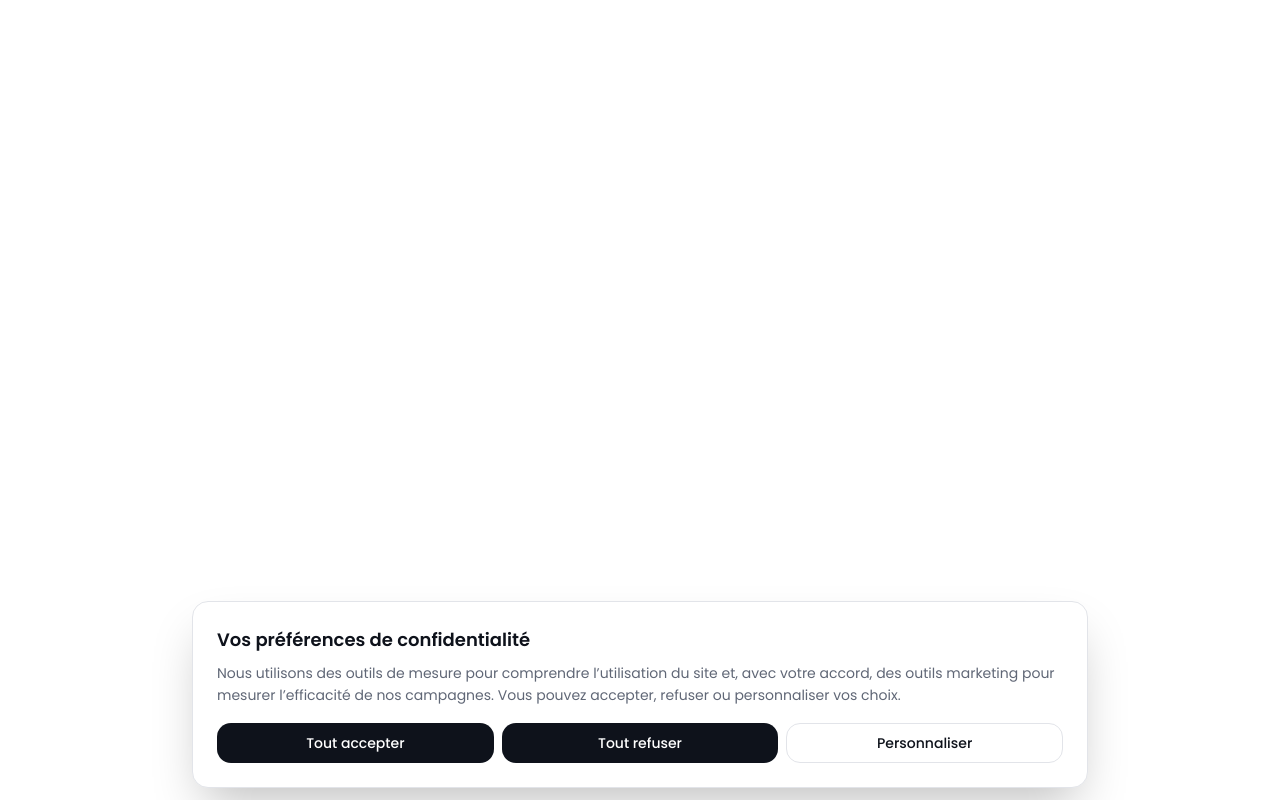
Test case: public consent UI › leaves consent unknown when the preferences dialog closes without saving
Click the button "Personnaliser": (925, 743) [786,723,1063,763]
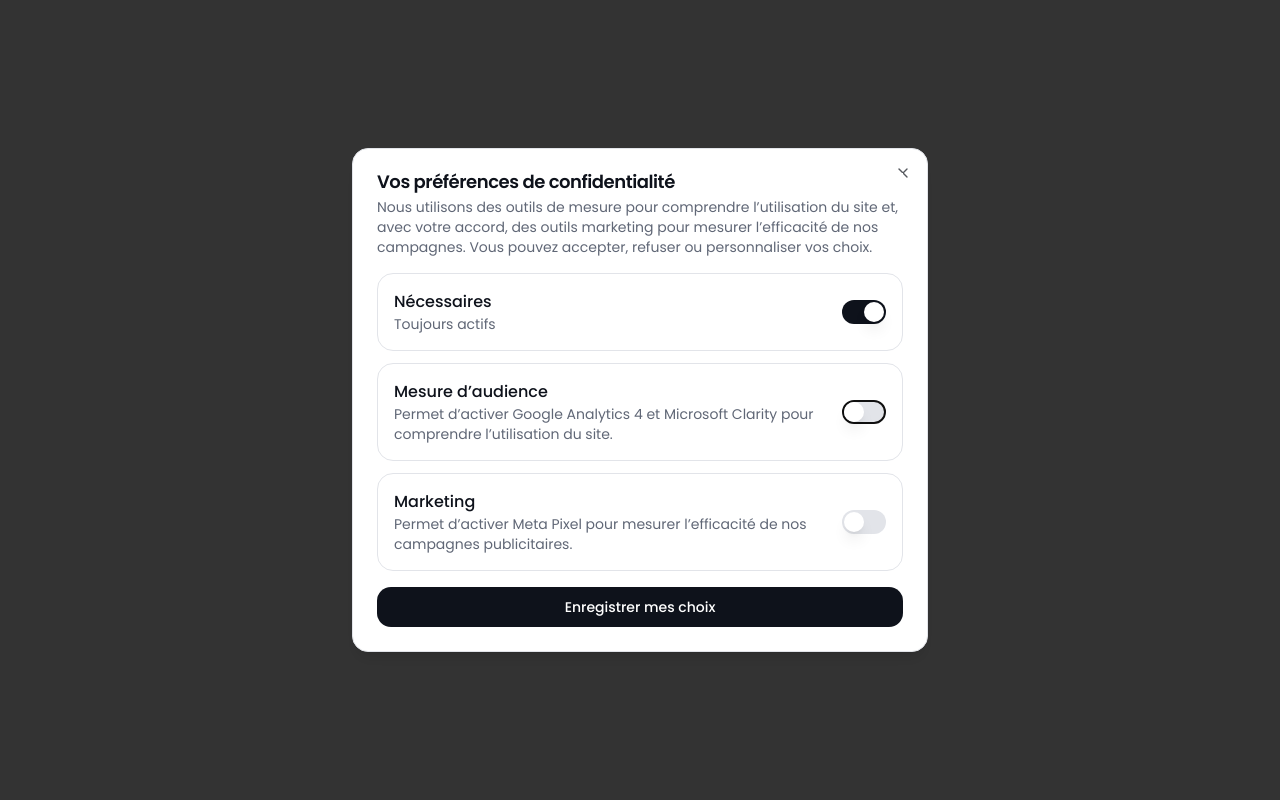
Click the switch named "Marketing": (864, 522) [842,510,886,534]
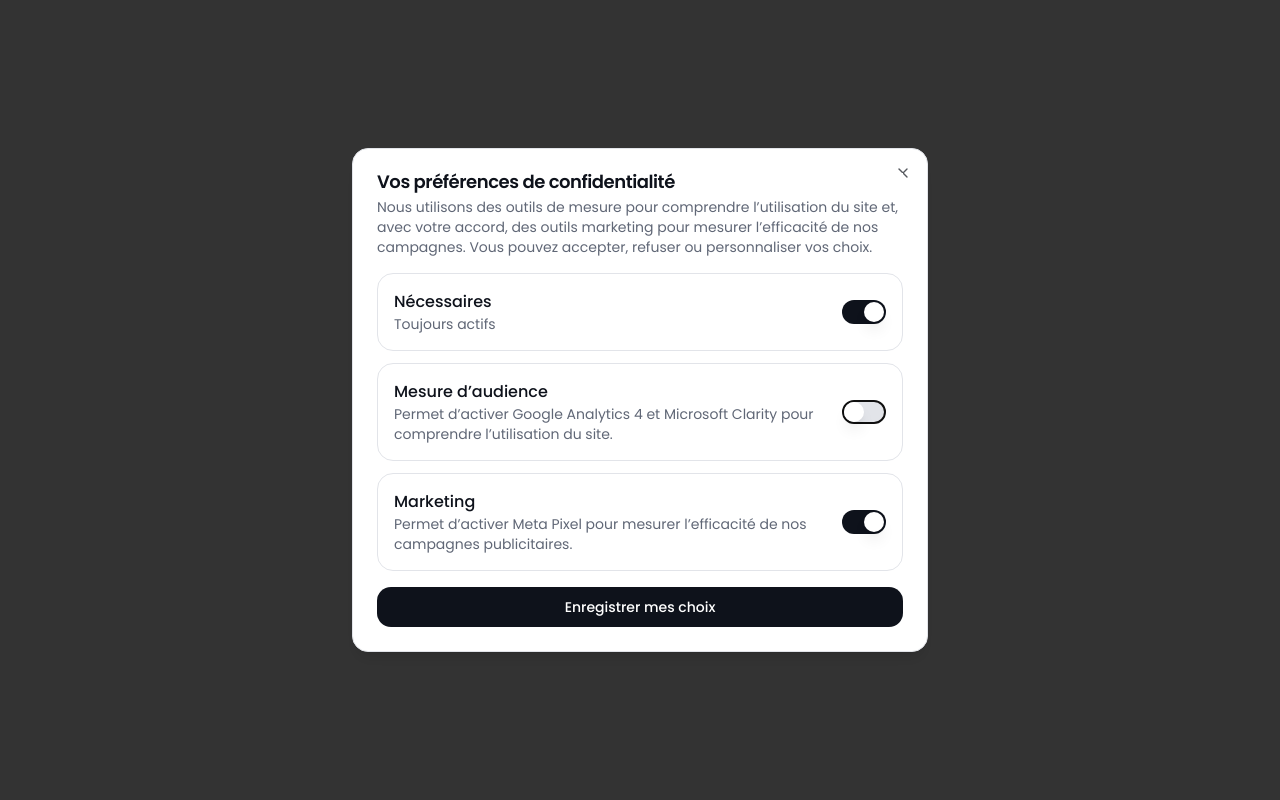
Press Escape
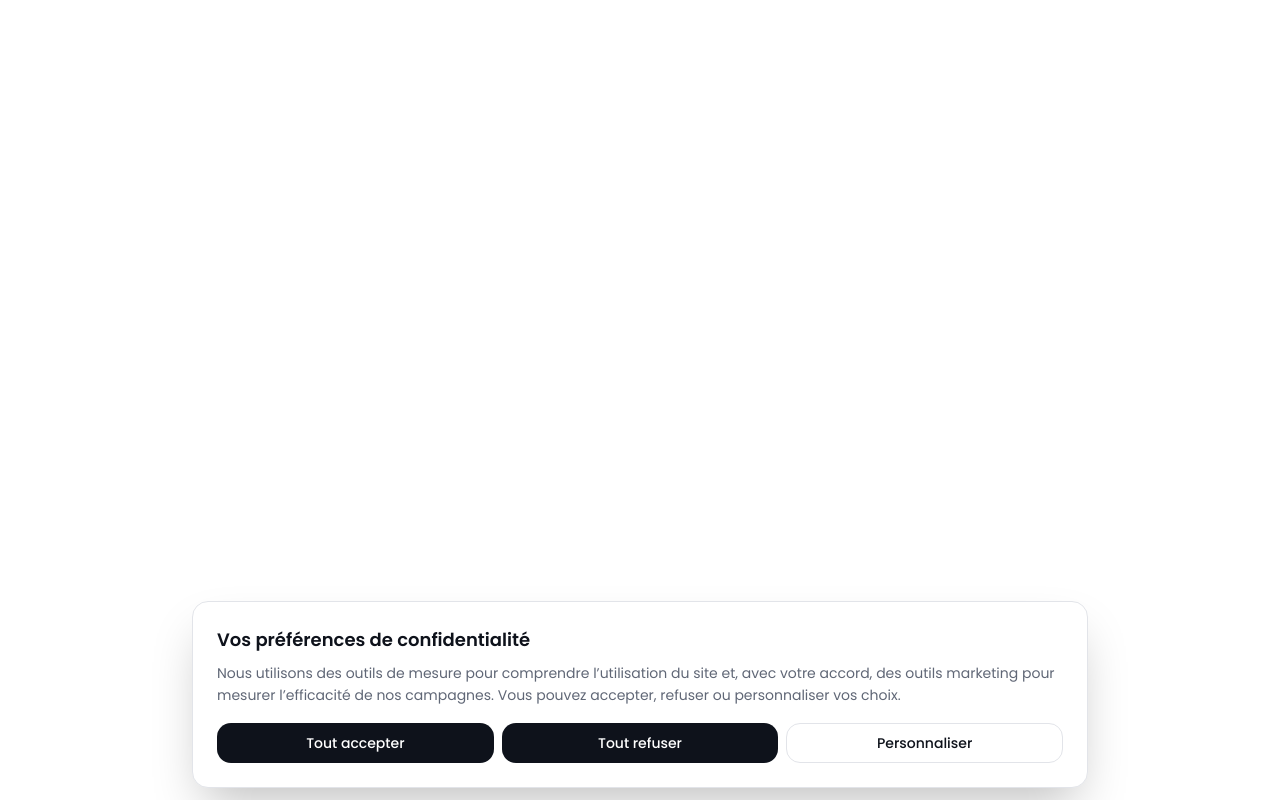
Check: the dialog is gone
Check: the button "Tout refuser" is shown, box [502,723,778,763]
